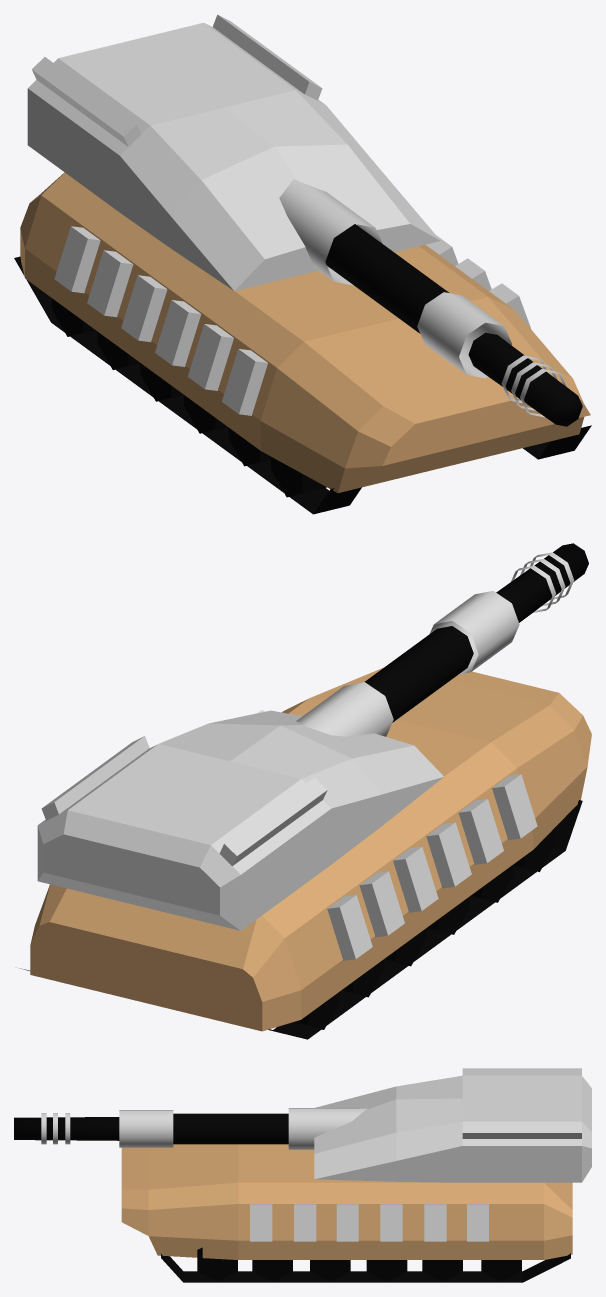
Rendered from tank1.fbx.
The picture shows the model from 3 angles, top to bottom: view 1: azimuth 30°, elevation 25°; view 2: azimuth 150°, elevation 25°; view 3: azimuth 270°, elevation 25°; orthographic projection. The views are drawn at different scales.
Visible parts, largest first — view 1: Cylinder.009, Cylinder.000; view 2: Cylinder.009, Cylinder.000; view 3: Cylinder.009, Cylinder.000.
Part boxes in pixels (x1,y1,x2,y2): Cylinder.009: [14, 172, 591, 514]; Cylinder.000: [27, 14, 582, 426]; Cylinder.009: [20, 667, 591, 1039]; Cylinder.000: [37, 543, 588, 930]; Cylinder.009: [121, 1144, 572, 1282]; Cylinder.000: [14, 1068, 591, 1182].
Bounding box in the file's own units: 91.73 × 66.6 × 239.
